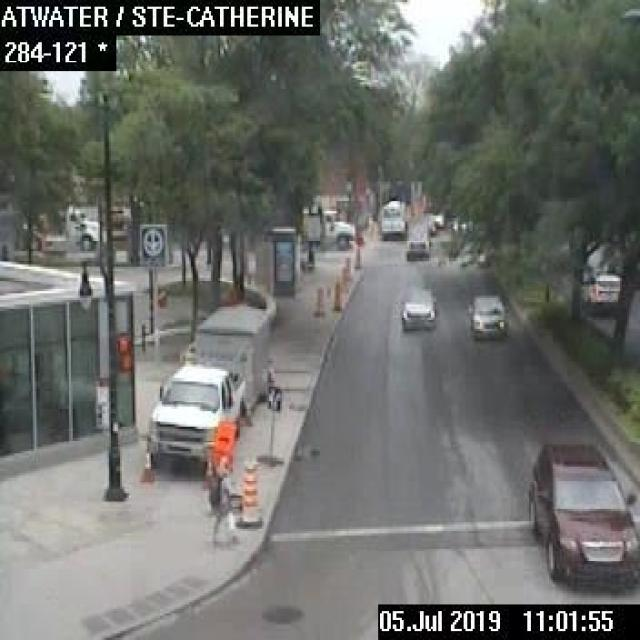bus: (378, 198, 406, 238)
construction: (238, 460, 262, 527), (215, 420, 232, 456), (138, 450, 152, 480), (340, 262, 351, 289), (312, 289, 324, 313), (332, 282, 341, 308)
pedestrian: (206, 456, 238, 544)
vehicle: (148, 302, 269, 467), (526, 440, 638, 591), (25, 204, 100, 250), (300, 207, 355, 249), (466, 291, 508, 340), (400, 282, 436, 331), (584, 271, 618, 307), (406, 222, 428, 258)
